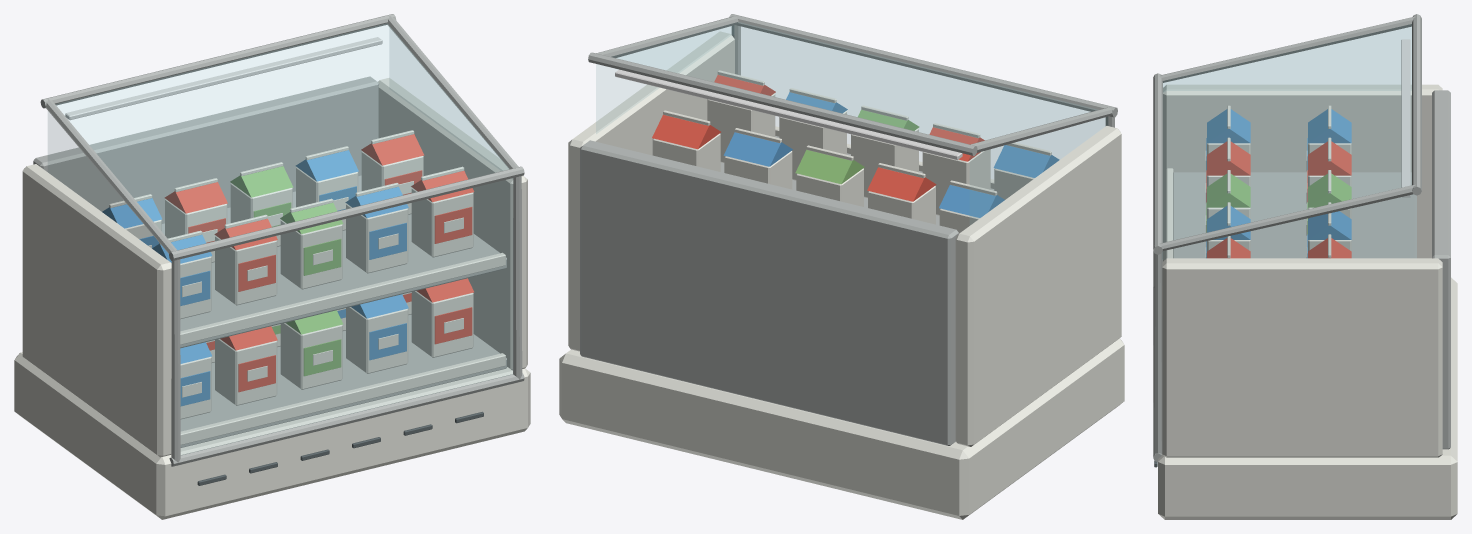
The model's file is Fridge_Dairy.fbx.
3 renders of one model, left to right at view 1: azimuth 30°, elevation 25°; view 2: azimuth 150°, elevation 25°; view 3: azimuth 270°, elevation 25°, orthographic. The views are drawn at different scales.
Parts seen in each view (by area): view 1: Fridge_Dairy__Dairy_Glass_Hood__LPCXFER, Fridge_Dairy__LPCXFER, Fridge_Dairy__Dairy_Tray_2__LPCXFER, Fridge_Dairy__Dairy_Tray_1__LPCXFER, Fridge_Dairy_Item_14_carton__LPCXFER, Fridge_Dairy_Item_12_carton__LPCXFER, Fridge_Dairy_Item_15_carton__LPCXFER, Fridge_Dairy_Item_13_carton__LPCXFER, Fridge_Dairy_Item_02_carton__LPCXFER, Fridge_Dairy_Item_04_carton__LPCXFER, Fridge_Dairy_Item_05_carton__LPCXFER, Fridge_Dairy_Item_03_carton__LPCXFER (+8 smaller); view 2: Fridge_Dairy__LPCXFER, Fridge_Dairy__Dairy_Glass_Hood__LPCXFER, Fridge_Dairy_Item_19_carton__LPCXFER, Fridge_Dairy_Item_20_carton__LPCXFER, Fridge_Dairy_Item_17_carton__LPCXFER, Fridge_Dairy_Item_18_carton__LPCXFER, Fridge_Dairy__Dairy_LED_Strip__LPCXFER, Fridge_Dairy_Item_12_carton__LPCXFER, Fridge_Dairy_Item_15_carton__LPCXFER, Fridge_Dairy_Item_14_carton__LPCXFER, Fridge_Dairy_Item_13_carton__LPCXFER, Fridge_Dairy_Item_11_carton__LPCXFER (+1 smaller); view 3: Fridge_Dairy__LPCXFER, Fridge_Dairy__Dairy_Glass_Hood__LPCXFER, Fridge_Dairy__Dairy_Tray_2__LPCXFER, Fridge_Dairy_Item_16_carton__LPCXFER, Fridge_Dairy_Item_12_carton__LPCXFER, Fridge_Dairy_Item_17_carton__LPCXFER, Fridge_Dairy_Item_11_carton__LPCXFER, Fridge_Dairy_Item_13_carton__LPCXFER, Fridge_Dairy__Dairy_LED_Strip__LPCXFER, Fridge_Dairy_Item_19_carton__LPCXFER, Fridge_Dairy_Item_18_carton__LPCXFER, Fridge_Dairy_Item_14_carton__LPCXFER (+2 smaller).
Boxes of the visible parts, x1=… form: Fridge_Dairy__Dairy_Glass_Hood__LPCXFER: x1=40, y1=14, x2=524, y2=466; Fridge_Dairy__LPCXFER: x1=14, y1=76, x2=530, y2=519; Fridge_Dairy__Dairy_Tray_2__LPCXFER: x1=161, y1=175, x2=506, y2=348; Fridge_Dairy__Dairy_Tray_1__LPCXFER: x1=180, y1=314, x2=506, y2=447; Fridge_Dairy_Item_14_carton__LPCXFER: x1=345, y1=183, x2=408, y2=273; Fridge_Dairy_Item_12_carton__LPCXFER: x1=214, y1=214, x2=277, y2=305; Fridge_Dairy_Item_15_carton__LPCXFER: x1=411, y1=166, x2=474, y2=257; Fridge_Dairy_Item_13_carton__LPCXFER: x1=280, y1=198, x2=343, y2=289; Fridge_Dairy_Item_02_carton__LPCXFER: x1=215, y1=326, x2=277, y2=405; Fridge_Dairy_Item_04_carton__LPCXFER: x1=346, y1=294, x2=408, y2=373; Fridge_Dairy_Item_05_carton__LPCXFER: x1=411, y1=278, x2=473, y2=357; Fridge_Dairy_Item_03_carton__LPCXFER: x1=280, y1=310, x2=342, y2=389; Fridge_Dairy__LPCXFER: x1=559, y1=31, x2=1124, y2=519; Fridge_Dairy__Dairy_Glass_Hood__LPCXFER: x1=588, y1=14, x2=1117, y2=224; Fridge_Dairy_Item_19_carton__LPCXFER: x1=723, y1=128, x2=792, y2=189; Fridge_Dairy_Item_20_carton__LPCXFER: x1=652, y1=110, x2=720, y2=171; Fridge_Dairy_Item_17_carton__LPCXFER: x1=867, y1=163, x2=936, y2=224; Fridge_Dairy_Item_18_carton__LPCXFER: x1=795, y1=145, x2=864, y2=206; Fridge_Dairy__Dairy_LED_Strip__LPCXFER: x1=615, y1=69, x2=962, y2=160; Fridge_Dairy_Item_12_carton__LPCXFER: x1=922, y1=123, x2=990, y2=215; Fridge_Dairy_Item_15_carton__LPCXFER: x1=707, y1=70, x2=775, y2=162; Fridge_Dairy_Item_14_carton__LPCXFER: x1=779, y1=88, x2=847, y2=180; Fridge_Dairy_Item_13_carton__LPCXFER: x1=851, y1=105, x2=919, y2=197; Fridge_Dairy_Item_11_carton__LPCXFER: x1=993, y1=142, x2=1059, y2=199; Fridge_Dairy__LPCXFER: x1=1154, y1=84, x2=1457, y2=519; Fridge_Dairy__Dairy_Glass_Hood__LPCXFER: x1=1153, y1=14, x2=1421, y2=461; Fridge_Dairy__Dairy_Tray_2__LPCXFER: x1=1166, y1=168, x2=1416, y2=258; Fridge_Dairy_Item_16_carton__LPCXFER: x1=1306, y1=105, x2=1351, y2=171; Fridge_Dairy_Item_12_carton__LPCXFER: x1=1205, y1=137, x2=1250, y2=203; Fridge_Dairy_Item_17_carton__LPCXFER: x1=1306, y1=137, x2=1351, y2=203; Fridge_Dairy_Item_11_carton__LPCXFER: x1=1205, y1=105, x2=1250, y2=170; Fridge_Dairy_Item_13_carton__LPCXFER: x1=1205, y1=170, x2=1250, y2=232; Fridge_Dairy__Dairy_LED_Strip__LPCXFER: x1=1401, y1=39, x2=1410, y2=197; Fridge_Dairy_Item_19_carton__LPCXFER: x1=1306, y1=202, x2=1351, y2=258; Fridge_Dairy_Item_18_carton__LPCXFER: x1=1306, y1=170, x2=1351, y2=235; Fridge_Dairy_Item_14_carton__LPCXFER: x1=1205, y1=202, x2=1250, y2=258.
Bounding box in the file's own units: 160 × 134 × 112.
